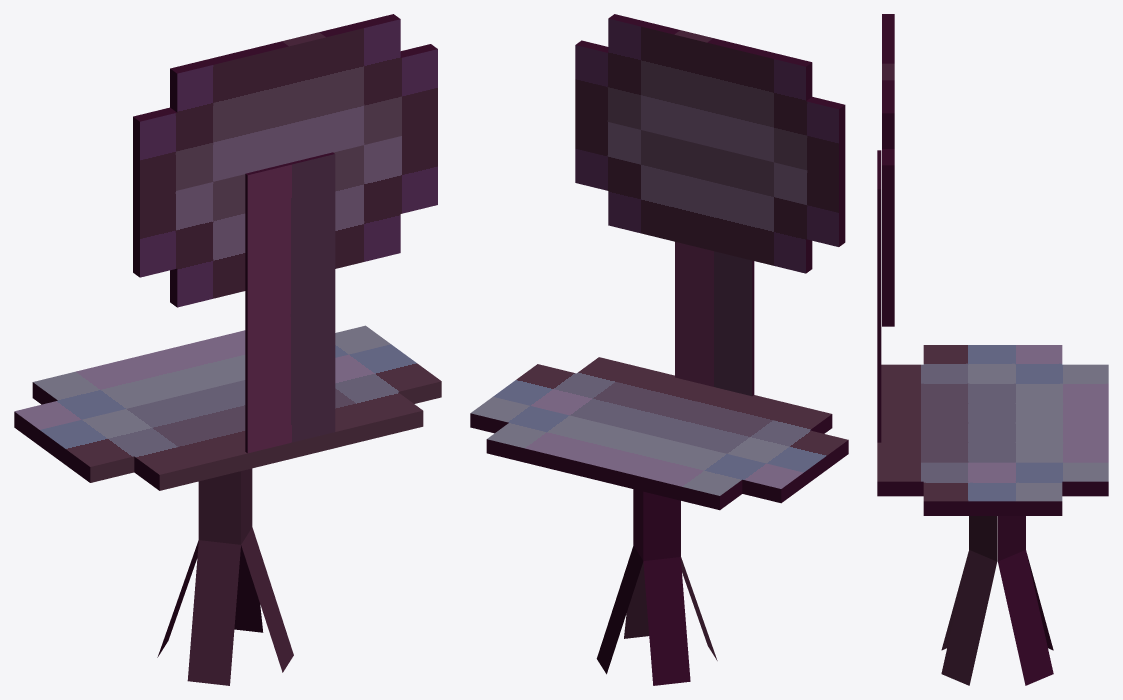
Rendered from Silla.obj.
3 renders of one model, left to right at view 1: azimuth 30°, elevation 25°; view 2: azimuth 150°, elevation 25°; view 3: azimuth 270°, elevation 25°, orthographic. The views are drawn at different scales.
Parts seen in each view (by area): view 1: Plane.002_Plane.003; view 2: Plane.002_Plane.003; view 3: Plane.002_Plane.003.
Boxes of the visible parts, <box> form: Plane.002_Plane.003: <box>14,14,441,685</box>; Plane.002_Plane.003: <box>470,14,848,685</box>; Plane.002_Plane.003: <box>877,14,1108,685</box>.
Size of the model in its own units: 0.8232 by 1.47 by 0.5145.
Materials: 1 (1 with a texture image).
